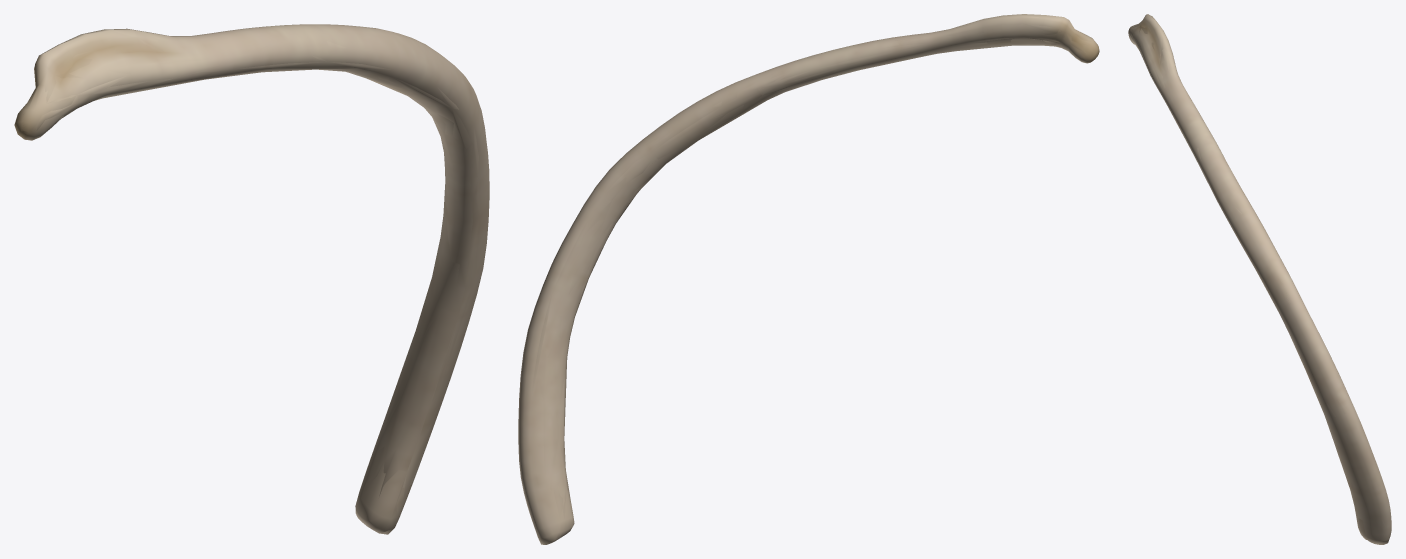
The model's file is Rib L16.fbx.
3 renders of one model, left to right at view 1: azimuth 30°, elevation 25°; view 2: azimuth 150°, elevation 25°; view 3: azimuth 270°, elevation 25°, orthographic. The views are drawn at different scales.
Visible parts, largest first — view 1: Rib L16, Rib L16 low; view 2: Rib L16, Rib L16 low; view 3: Rib L16, Rib L16 low.
Part boxes in pixels (left/top/right/bottom): Rib L16: left=14, top=24, right=489, bottom=534; Rib L16 low: left=22, top=29, right=488, bottom=532; Rib L16: left=518, top=14, right=1099, bottom=544; Rib L16 low: left=520, top=14, right=1095, bottom=543; Rib L16: left=1128, top=14, right=1391, bottom=544; Rib L16 low: left=1128, top=23, right=1391, bottom=543.
Size of the model in its own units: 26.66 by 29.76 by 18.12.
Materials: 1 (1 with a texture image).
